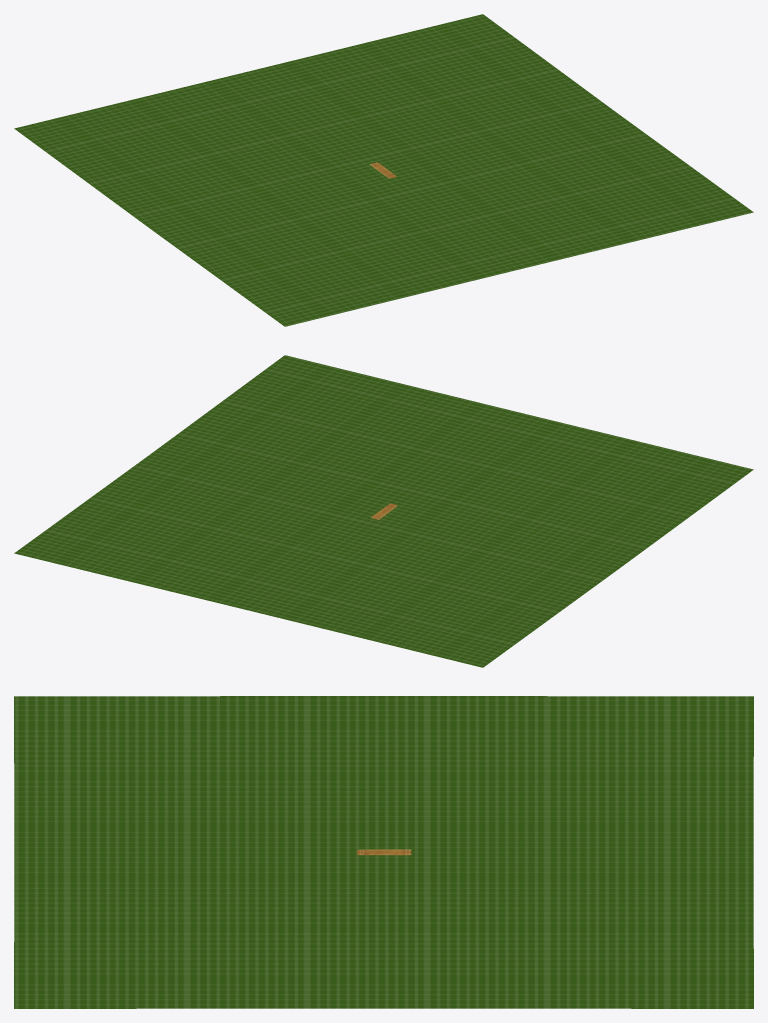
File: Pitch (2).fbx
The picture shows the model from 3 angles, top to bottom: view 1: azimuth 30°, elevation 25°; view 2: azimuth 150°, elevation 25°; view 3: azimuth 270°, elevation 25°; orthographic projection. The views are drawn at different scales.
Visible parts, largest first — view 1: pitch; view 2: pitch; view 3: pitch.
Part boxes in pixels (bbox=[...]): pitch: bbox=[14, 14, 753, 326]; pitch: bbox=[14, 355, 753, 667]; pitch: bbox=[14, 696, 753, 1008].
Size of the model in its own units: 25110 by 0.00674 by 25090.
